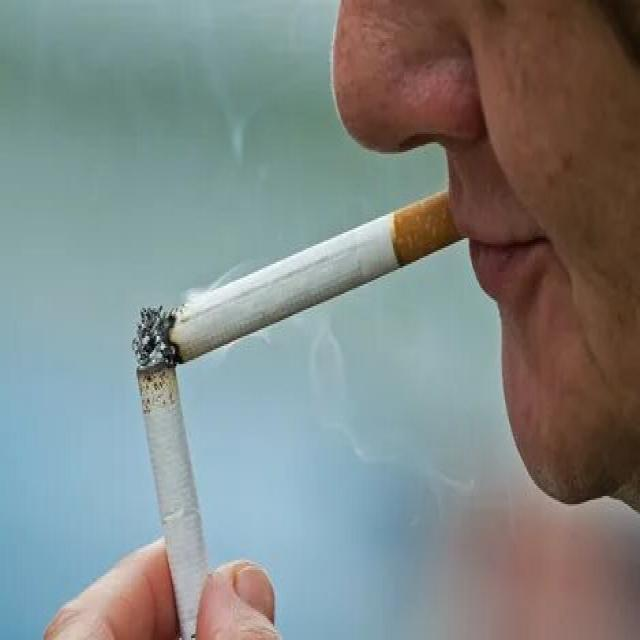cigarette: (160, 180, 466, 364), (124, 306, 225, 638)
